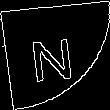N_N: (30, 27, 80, 83)
